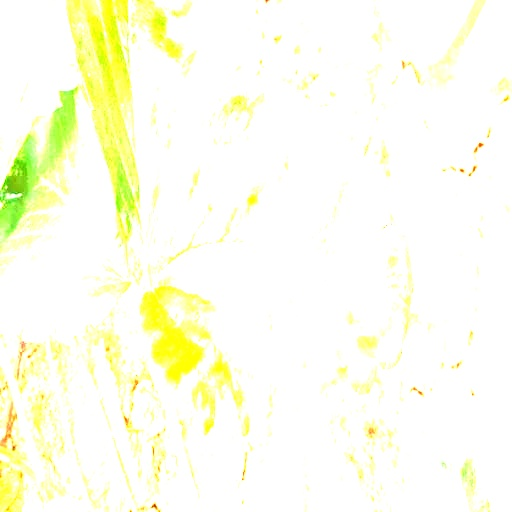Leaf Spot: (138, 86, 416, 437), (64, 0, 234, 270), (0, 85, 132, 342)
